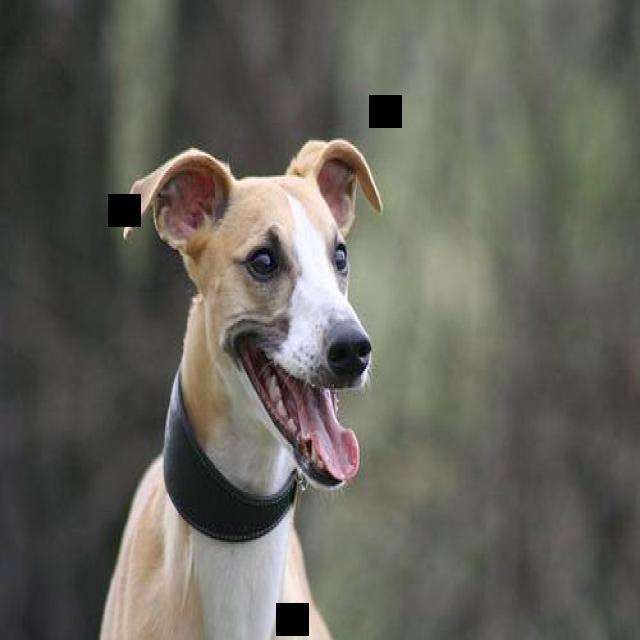adult_dog: (103, 137, 386, 640)
